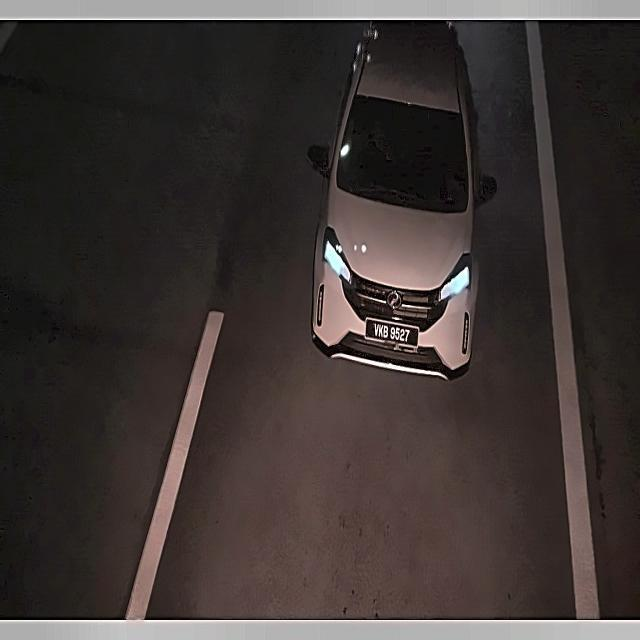car: (360, 309, 424, 356)
